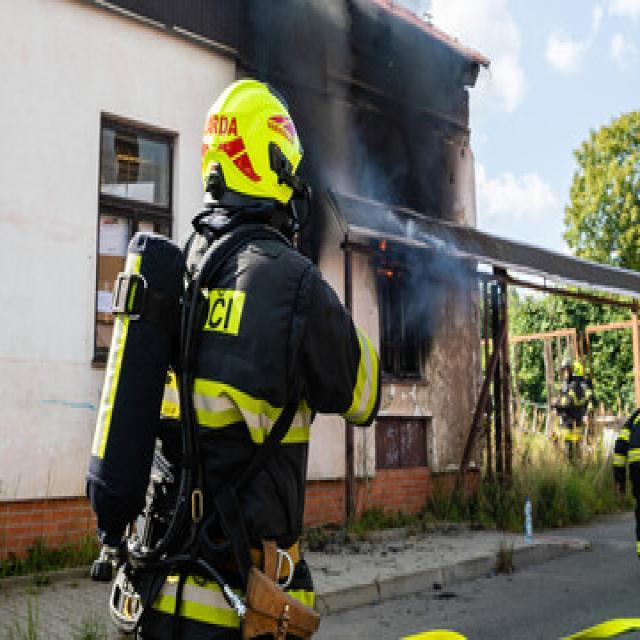Smoke: (406, 231, 470, 331)
